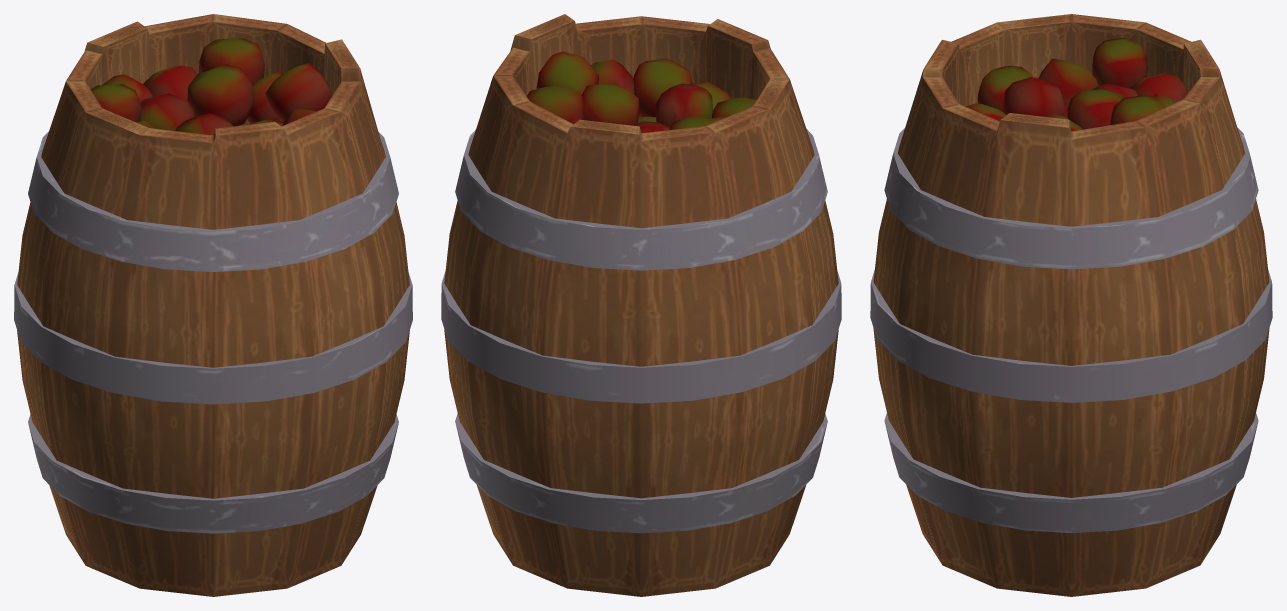
File: Barrel Apples.glb
3 renders of one model, left to right at view 1: azimuth 30°, elevation 25°; view 2: azimuth 150°, elevation 25°; view 3: azimuth 270°, elevation 25°, orthographic.
Parts seen in each view (by area): view 1: Barrel_Apples; view 2: Barrel_Apples; view 3: Barrel_Apples.
Part boxes in pixels (x1=…): Barrel_Apples: x1=14, y1=14, x2=412, y2=596; Barrel_Apples: x1=441, y1=14, x2=841, y2=596; Barrel_Apples: x1=870, y1=14, x2=1272, y2=596.
Size of the model in its own units: 0.698 by 0.898 by 0.698.
Materials: 3 (3 with a texture image).
